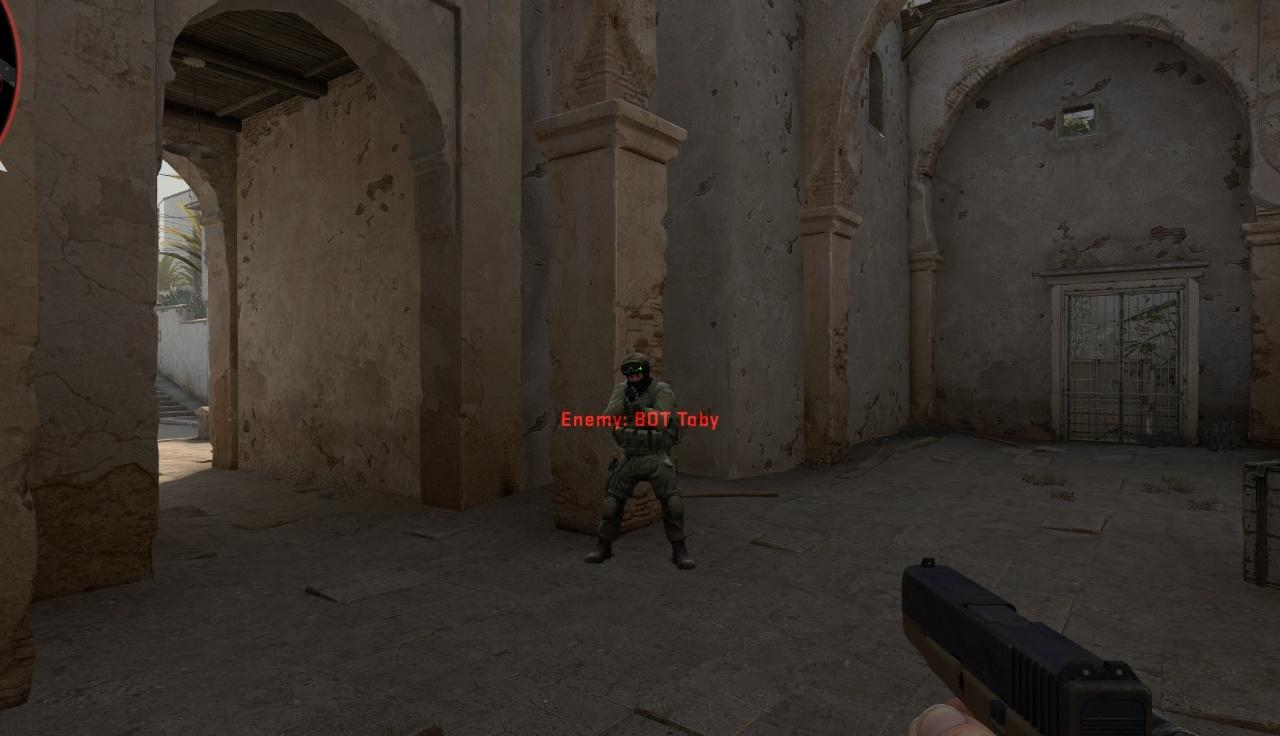ct: (584, 353, 696, 567)
cthead: (621, 354, 651, 389)
pistol: (900, 557, 1206, 736)
